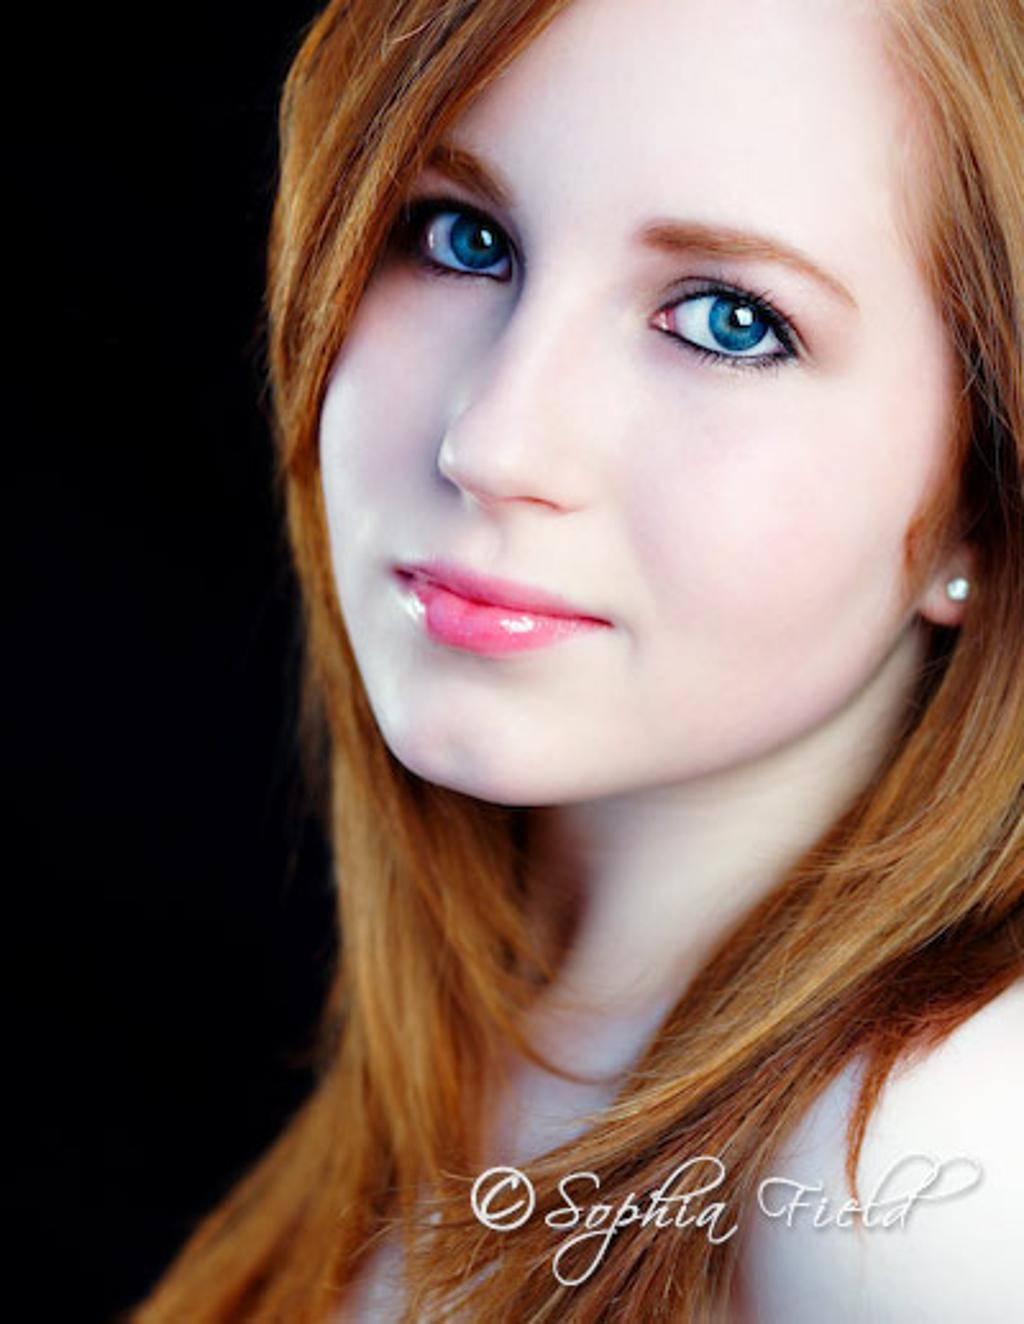face: (315, 5, 964, 801)
